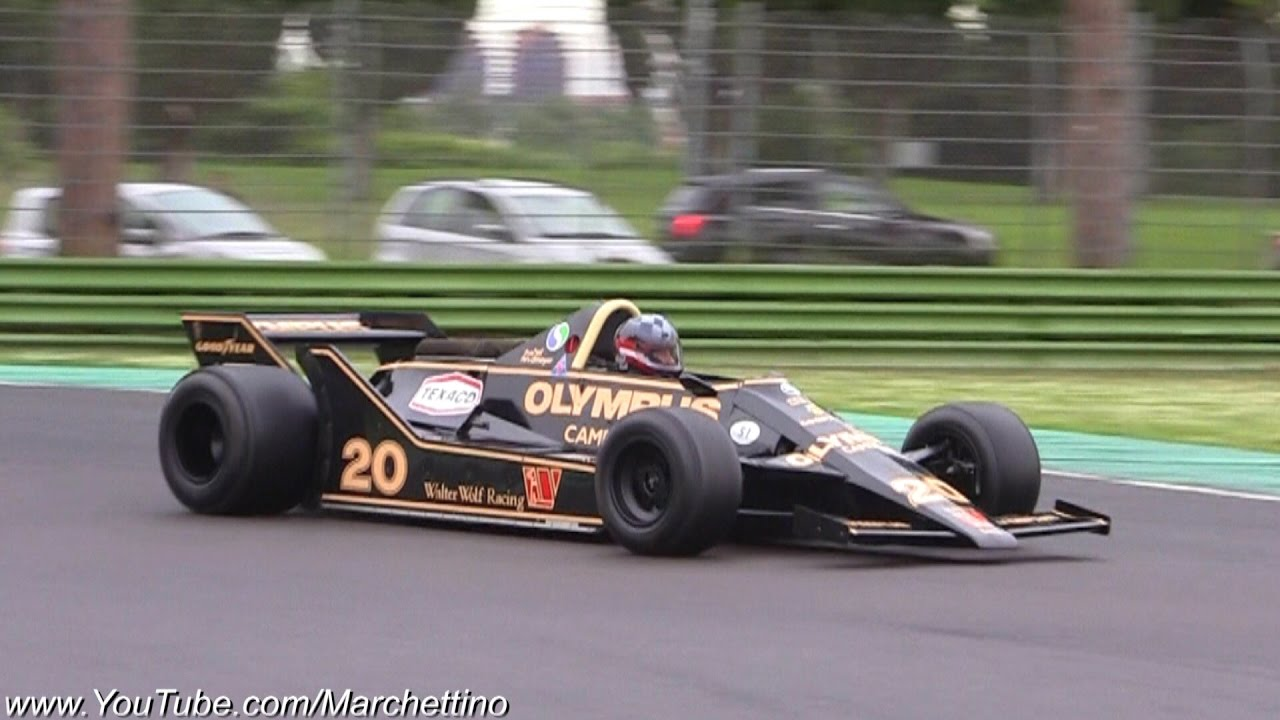f1_car: (148, 287, 1139, 584)
helmet: (604, 305, 694, 395)
